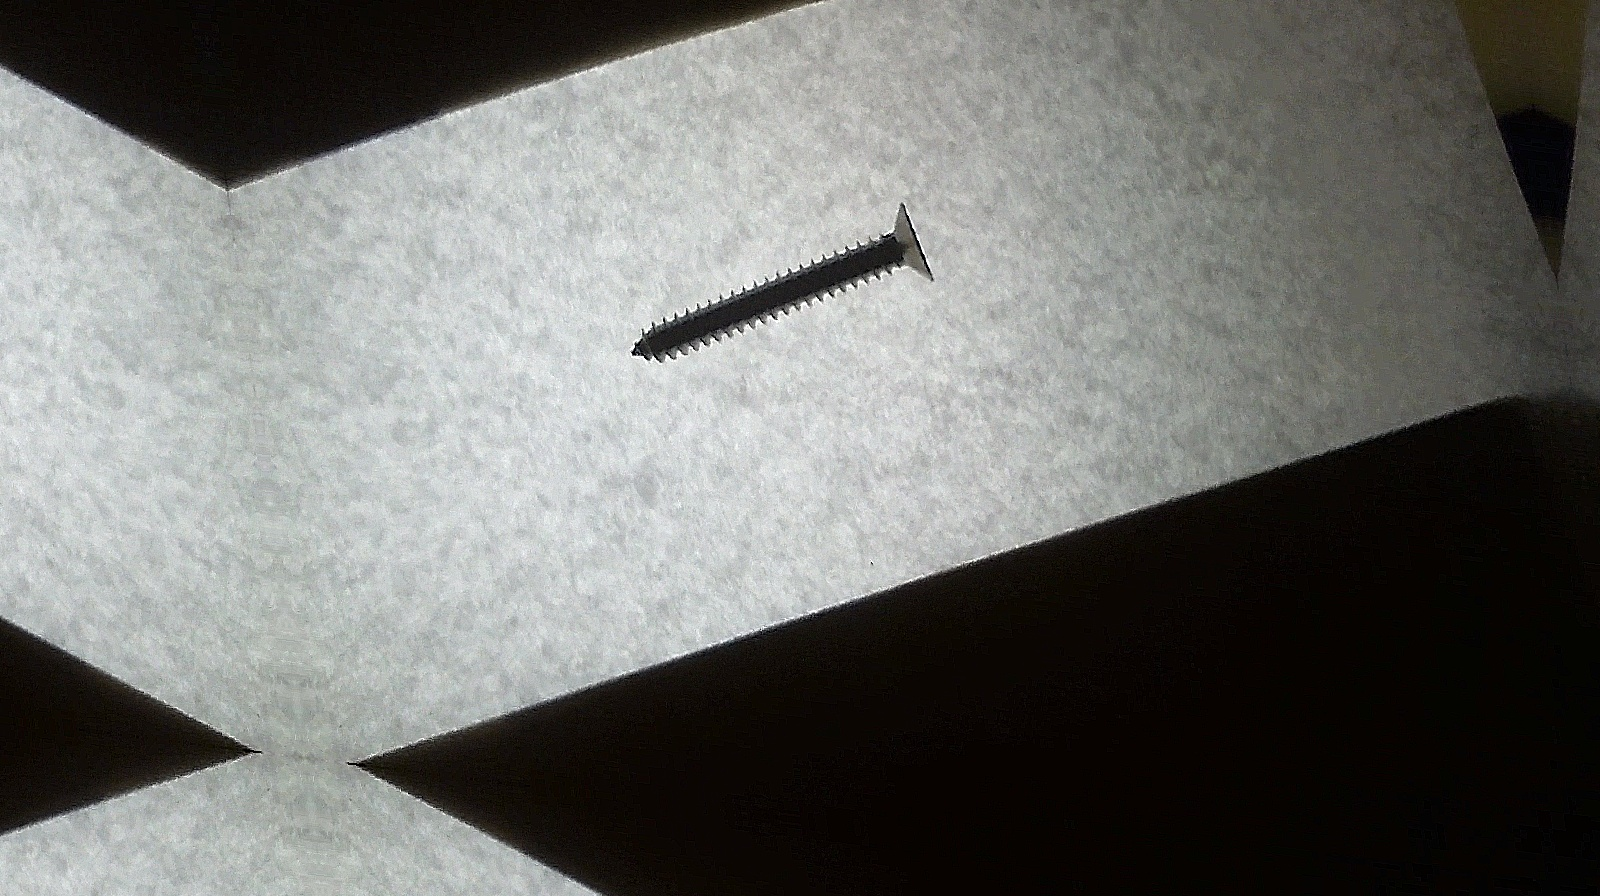S002: (600, 165, 952, 399)
